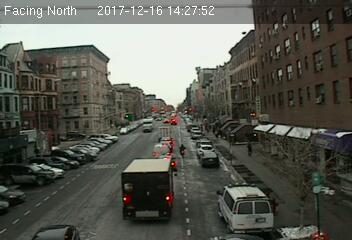bicycle: (179, 143, 186, 157)
car: (198, 150, 218, 167)
police: (218, 182, 277, 235)
ups: (119, 157, 175, 223)
